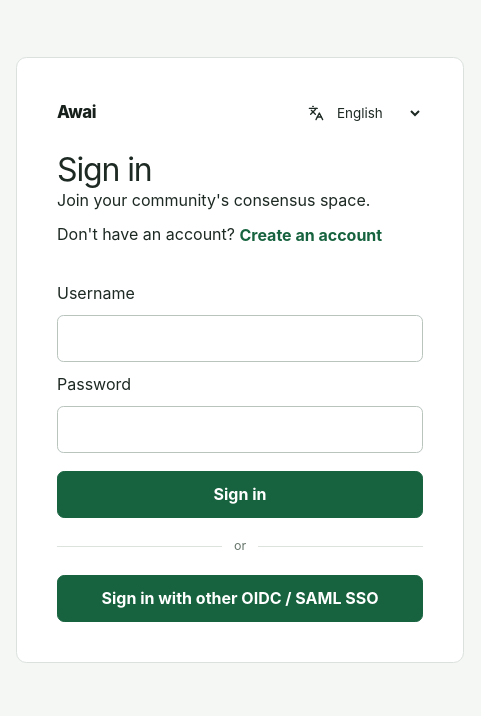
Scenario: LoginPage › switches between sign-in and account creation fields
Expected: the heading "Sign in" is shown, 57,150 -> 152,188
Expected: the field labelled "Email" is not shown
Click the button "Create an account" at (311, 235), box 240,212 -> 382,257
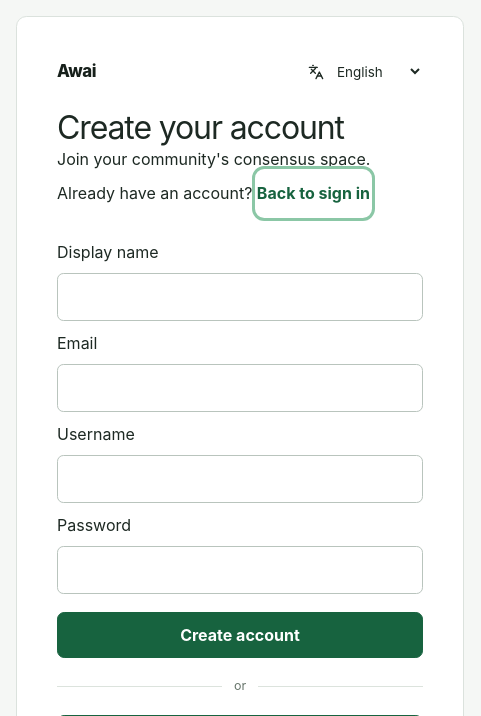
Result: the heading "Create your account" is shown at 57,108 -> 344,147
